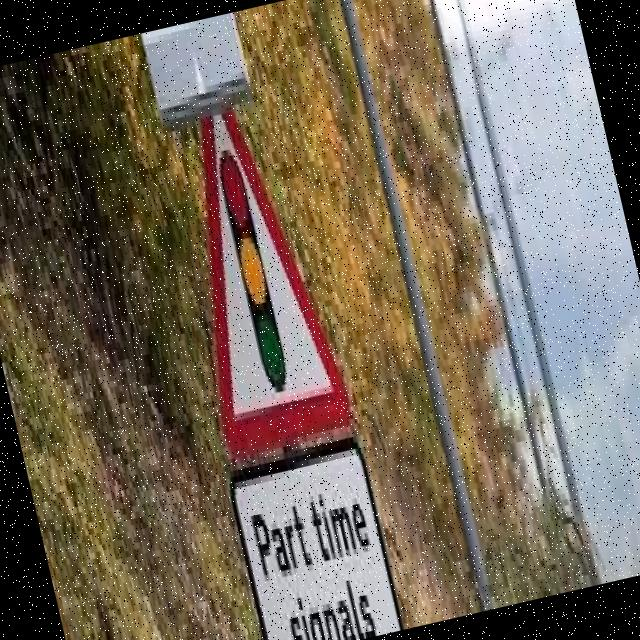light_traffic: (150, 76, 360, 464)
